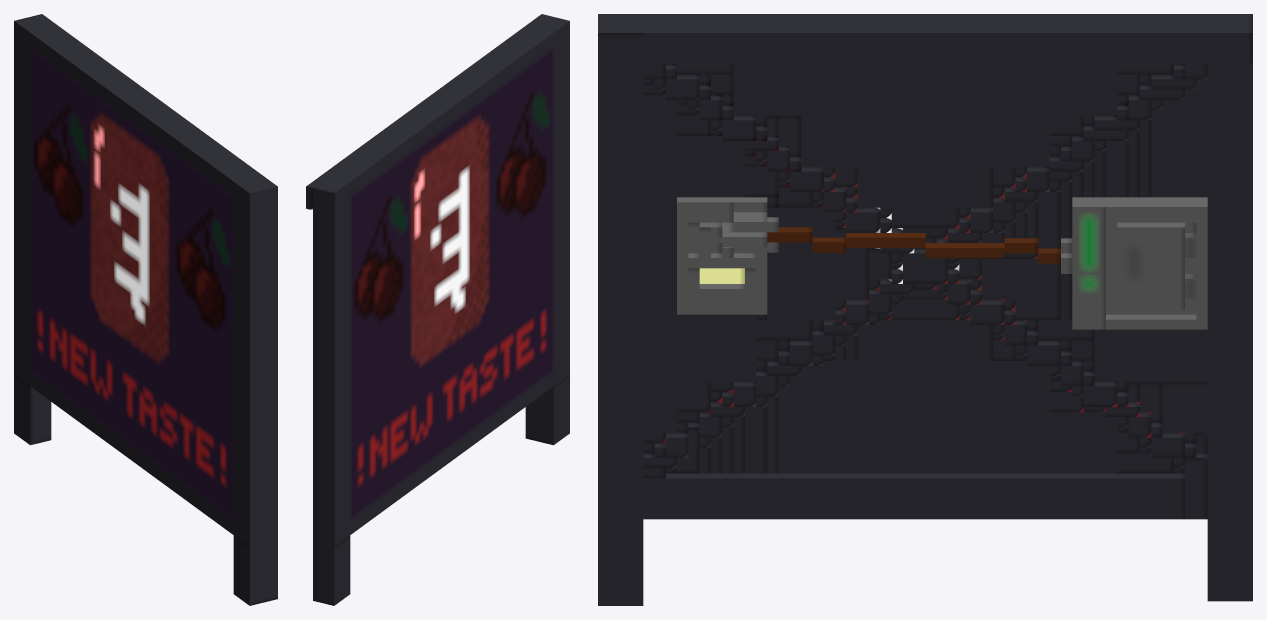
The model's file is neon_bb_cola_nowa.dae.
3 renders of one model, left to right at view 1: azimuth 30°, elevation 25°; view 2: azimuth 150°, elevation 25°; view 3: azimuth 270°, elevation 25°, orthographic. The views are drawn at different scales.
Visible parts, largest first — view 1: Content; view 2: Content; view 3: Content.
Boxes of the visible parts, left/top/right/bottom form: Content: left=14, top=14, right=277, bottom=605; Content: left=306, top=14, right=569, bottom=605; Content: left=598, top=14, right=1252, bottom=605.
Size of the model in its own units: 6 by 56 by 58.
Materials: 1 (1 with a texture image).
